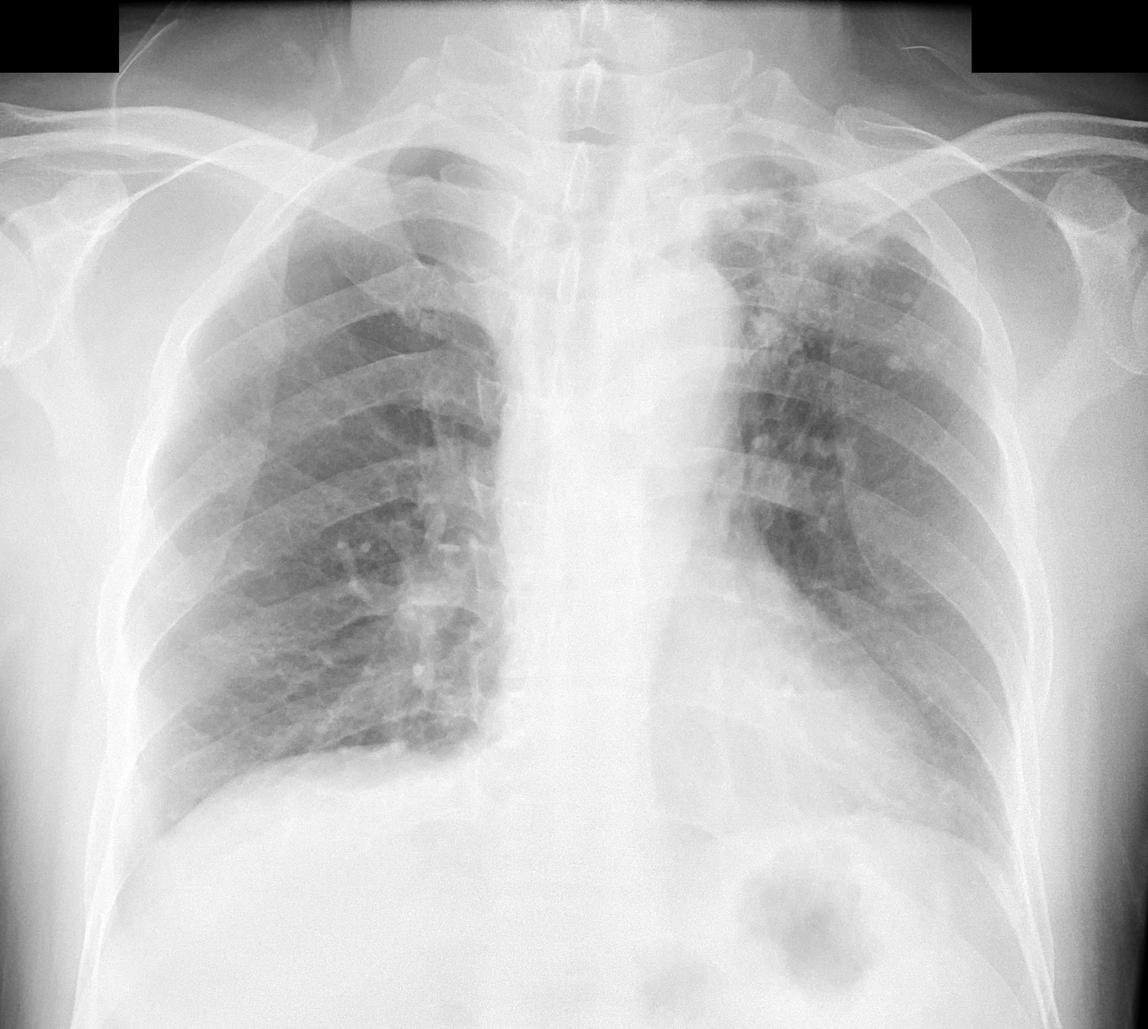Aortic enlargement: (581, 253, 737, 422)
Pulmonary fibrosis: (714, 172, 951, 527)
